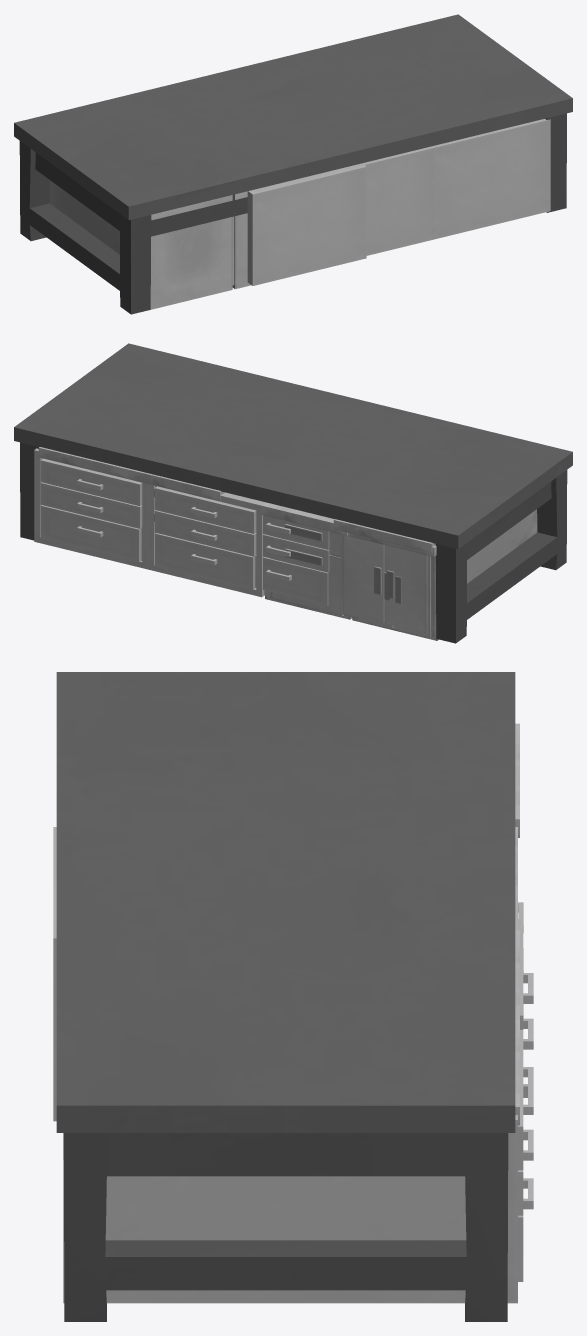
The model's file is Pfb_Table_02_3_JLAB_Temp.fbx.
The picture shows the model from 3 angles, top to bottom: view 1: azimuth 30°, elevation 25°; view 2: azimuth 150°, elevation 25°; view 3: azimuth 270°, elevation 25°; orthographic projection. The views are drawn at different scales.
Parts seen in each view (by area): view 1: Mat_Table_02White, Kitchen 4, Kitchen; view 2: Mat_Table_02White, Kitchen 4, Kitchen; view 3: Mat_Table_02White, Kitchen 4, Kitchen.
Boxes of the visible parts, bbox=[...] form: Mat_Table_02White: bbox=[14, 14, 572, 314]; Kitchen 4: bbox=[247, 119, 550, 285]; Kitchen: bbox=[49, 180, 250, 309]; Mat_Table_02White: bbox=[14, 343, 572, 643]; Kitchen 4: bbox=[34, 448, 336, 605]; Kitchen: bbox=[38, 447, 537, 640]; Mat_Table_02White: bbox=[56, 672, 515, 1321]; Kitchen 4: bbox=[53, 827, 533, 1303]; Kitchen: bbox=[515, 723, 519, 1125].
Size of the model in its own units: 2.78 by 0.6734 by 1.3.
Materials: 3 (3 with a texture image).
